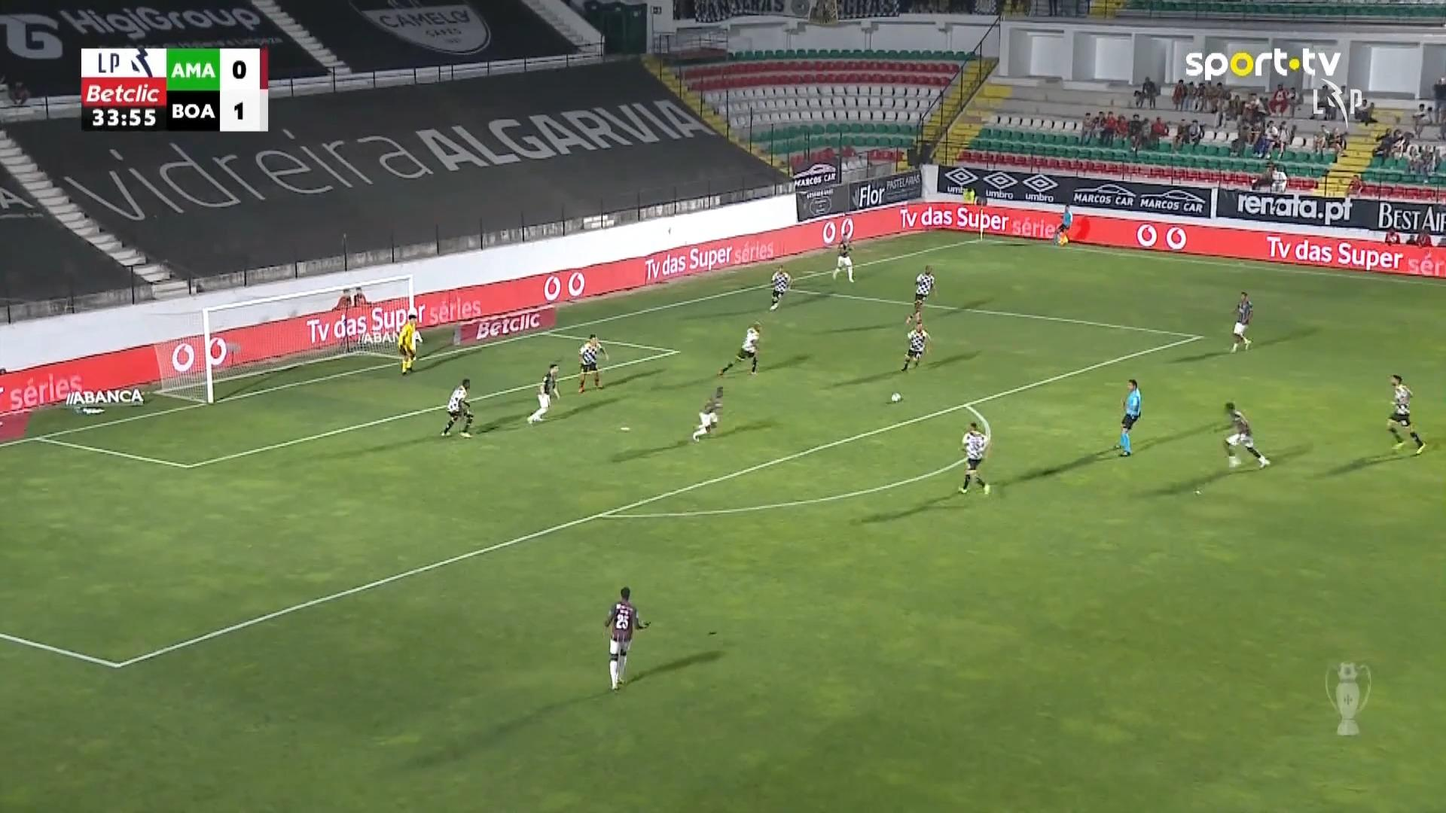ball: (890, 391, 901, 402)
goalkeeper: (396, 312, 423, 374)
player: (602, 585, 648, 691), (1221, 400, 1270, 468), (1386, 373, 1426, 455), (957, 421, 991, 495), (717, 321, 762, 376), (526, 362, 561, 424), (440, 377, 474, 437), (576, 333, 608, 393), (691, 385, 724, 442), (908, 263, 935, 323), (900, 319, 930, 371), (1229, 290, 1253, 352), (831, 236, 856, 283), (768, 265, 791, 311)
referee: (1115, 378, 1142, 456), (1054, 202, 1072, 245)
